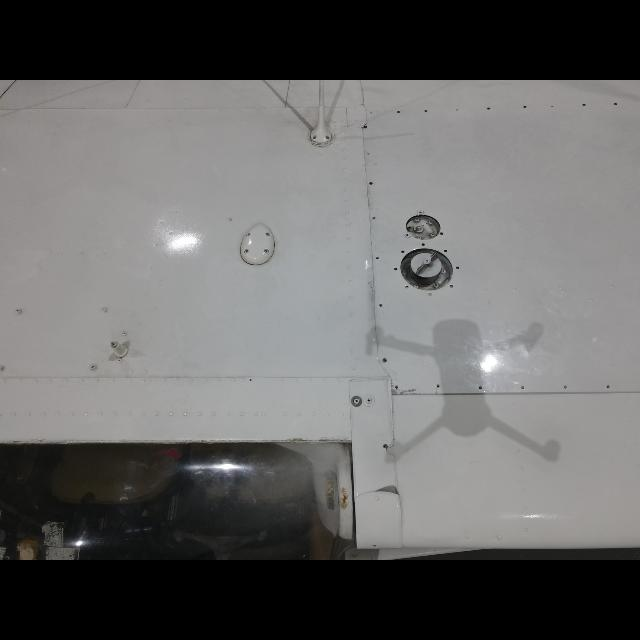Missing Fastener: (394, 384, 400, 390), (563, 384, 567, 390), (520, 386, 526, 390), (248, 378, 254, 382), (378, 303, 384, 307), (374, 256, 380, 260), (404, 285, 410, 289), (606, 384, 610, 388), (478, 386, 482, 390), (436, 384, 440, 388), (455, 108, 459, 112), (428, 292, 432, 296), (450, 284, 454, 288), (456, 266, 460, 270), (401, 250, 405, 254), (394, 267, 398, 271), (550, 104, 554, 108), (372, 217, 376, 220), (366, 152, 369, 156), (440, 232, 444, 235), (418, 210, 422, 213), (444, 250, 448, 252), (421, 244, 425, 246), (370, 112, 372, 114), (406, 234, 408, 236)
